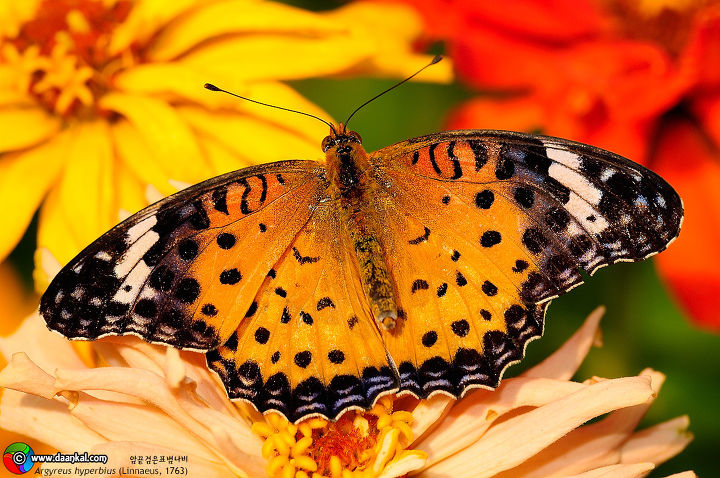Argyreus hyperbius: (30, 54, 691, 425)
butterfly: (32, 56, 693, 427)
